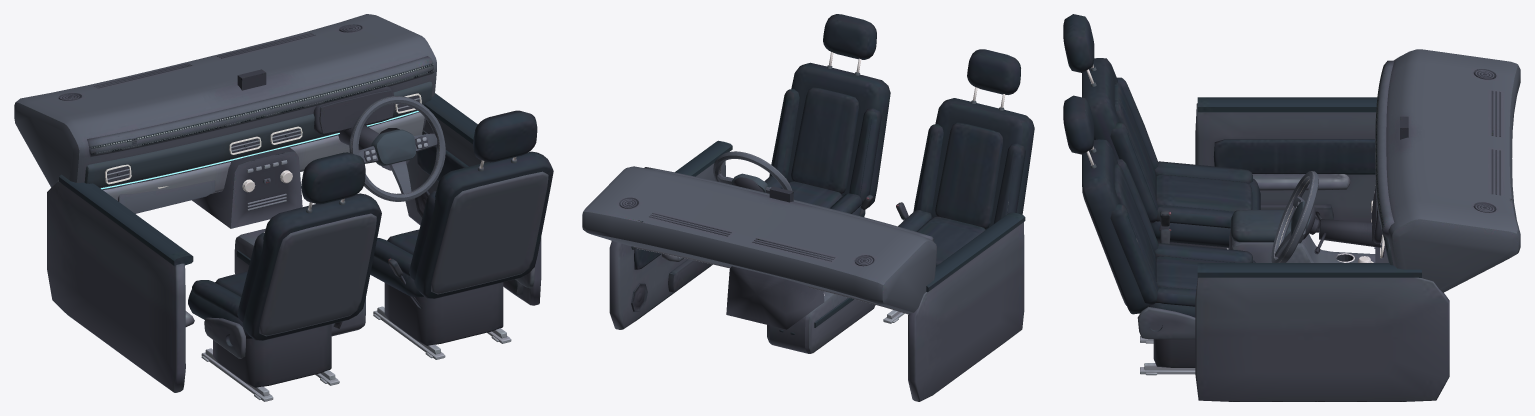
Rendered from statoz-cockpit.glb.
The picture shows the model from 3 angles, left to right: view 1: azimuth 30°, elevation 25°; view 2: azimuth 150°, elevation 25°; view 3: azimuth 270°, elevation 25°; orthographic projection. The views are drawn at different scales.
Parts seen in each view (by area): view 1: cockpit-seats-doors-console, cockpit-body, cockpit-steering_wheel, cockpit-dash_ambient_glow; view 2: cockpit-seats-doors-console, cockpit-body, cockpit-steering_wheel; view 3: cockpit-seats-doors-console, cockpit-body, cockpit-steering_wheel.
Part boxes in pixels (x1,y1,x2,y2): cockpit-seats-doors-console: (47, 93, 553, 401); cockpit-body: (14, 14, 436, 228); cockpit-steering_wheel: (349, 96, 445, 201); cockpit-dash_ambient_glow: (101, 111, 418, 189); cockpit-seats-doors-console: (609, 14, 1034, 401); cockpit-body: (582, 166, 936, 329); cockpit-steering_wheel: (713, 151, 793, 199); cockpit-seats-doors-console: (1063, 14, 1449, 401); cockpit-body: (1314, 49, 1520, 292); cockpit-steering_wheel: (1271, 171, 1319, 262).
Bounding box in the file's own units: 1.52 × 1.03 × 1.68.
Materials: 4 (3 with a texture image).
